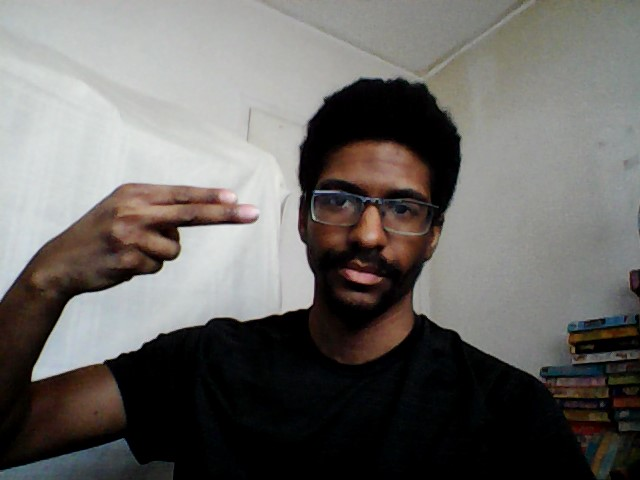h: (52, 177, 262, 296)
